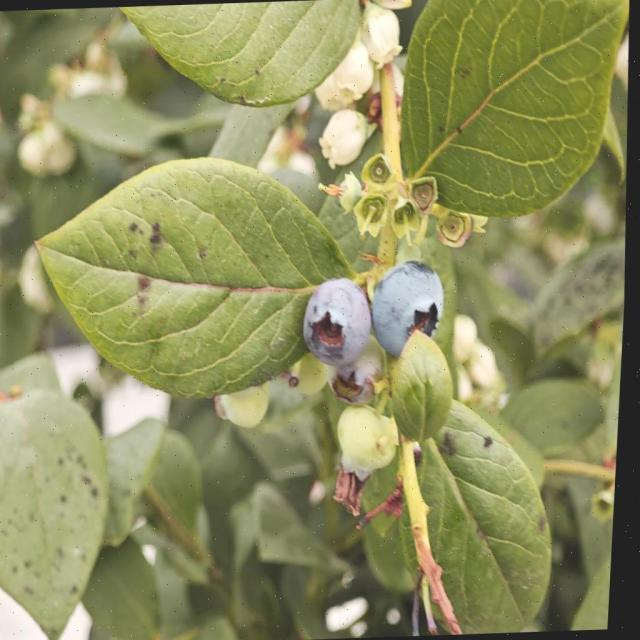RipeBlueBerry: (370, 256, 454, 355), (300, 276, 378, 366)
UnripeBlueBerry: (334, 398, 410, 478)
